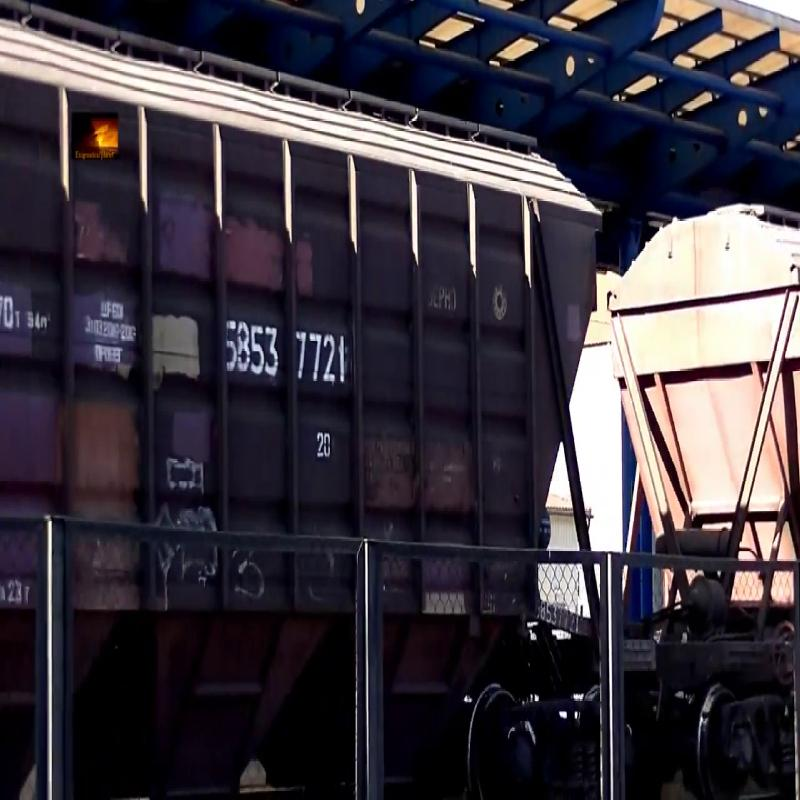train: (2, 24, 609, 772), (648, 20, 800, 769)
